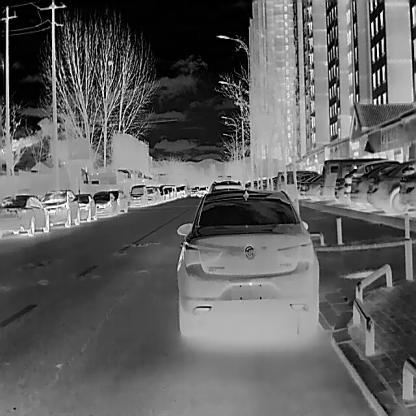car: (177, 191, 318, 336), (366, 159, 416, 212), (350, 163, 397, 208), (0, 194, 49, 236), (39, 189, 80, 227), (319, 158, 339, 196), (74, 193, 97, 221), (92, 192, 118, 216), (129, 185, 147, 207), (110, 189, 127, 212), (304, 175, 321, 195), (145, 185, 159, 204), (197, 186, 207, 197)
